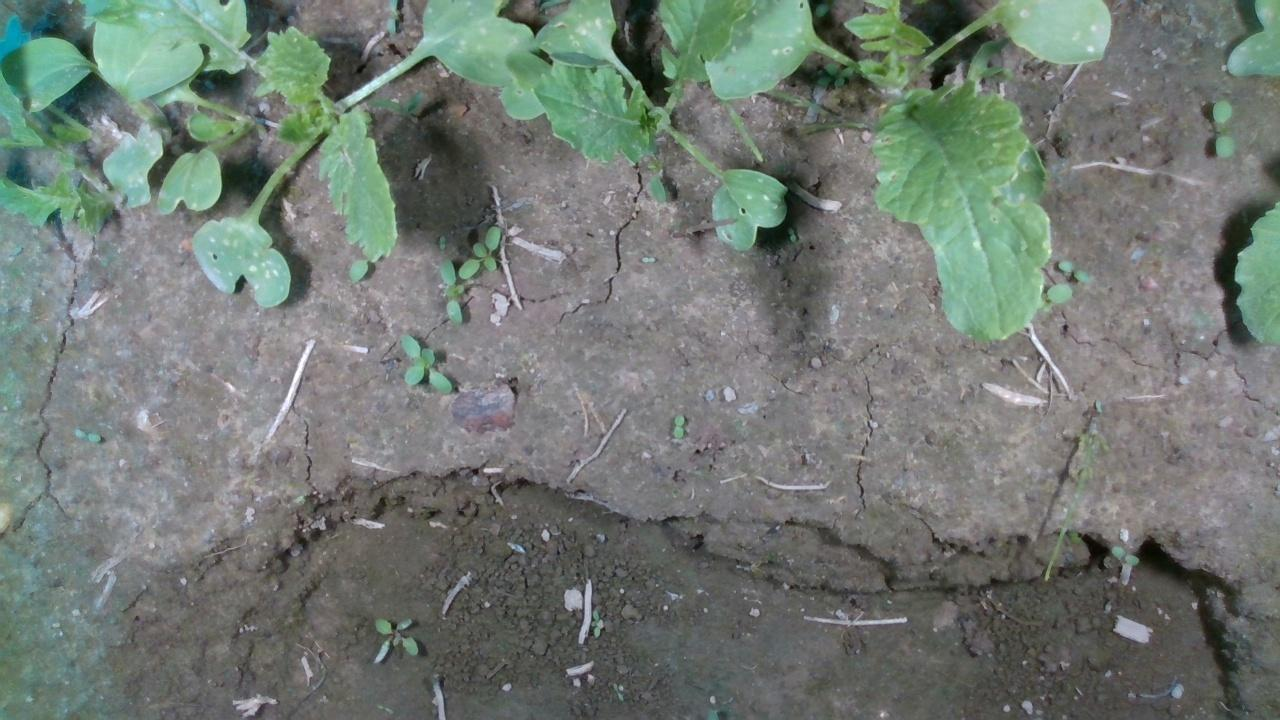weed: (398, 333, 453, 395), (71, 427, 102, 444), (672, 412, 684, 439)
